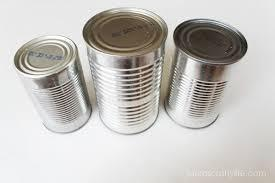Tin: (10, 8, 249, 146)
